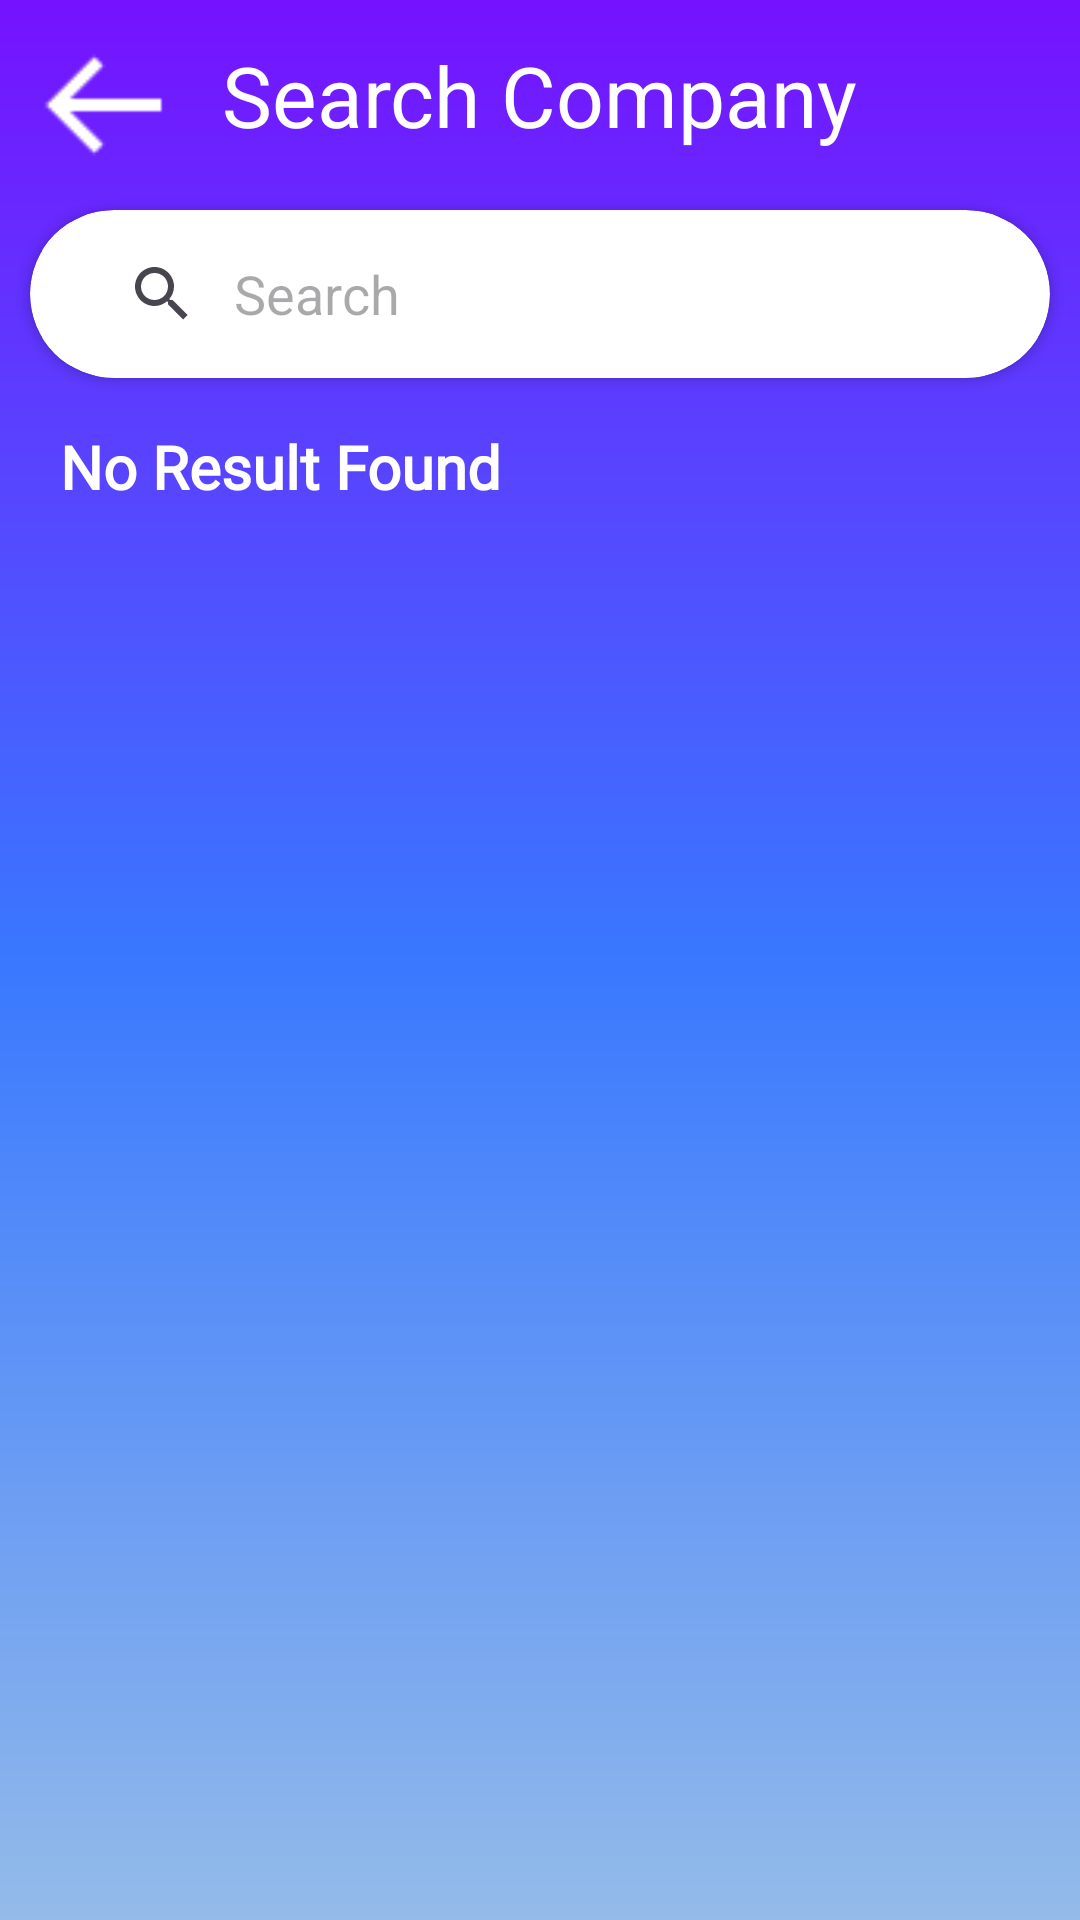

Point at icon controls on the screen. Image size 1080px×1920px, points as [x,y].
back: [103,105]
